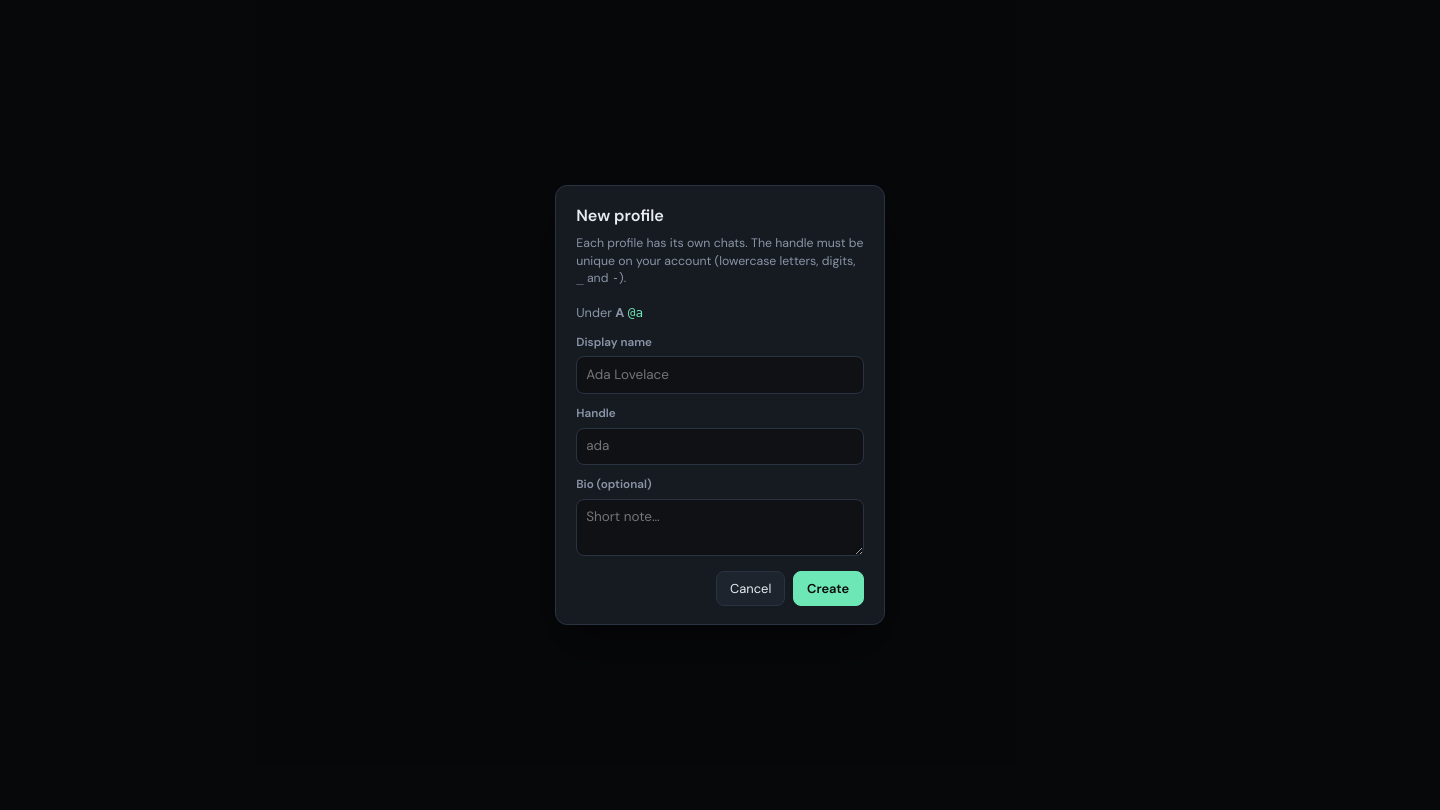
Scenario: QuickProfileDialog › shows API error when response not ok
Type "X" into the field labelled "Display name" at (720, 375), box x1=576 y1=356 x2=864 y2=394
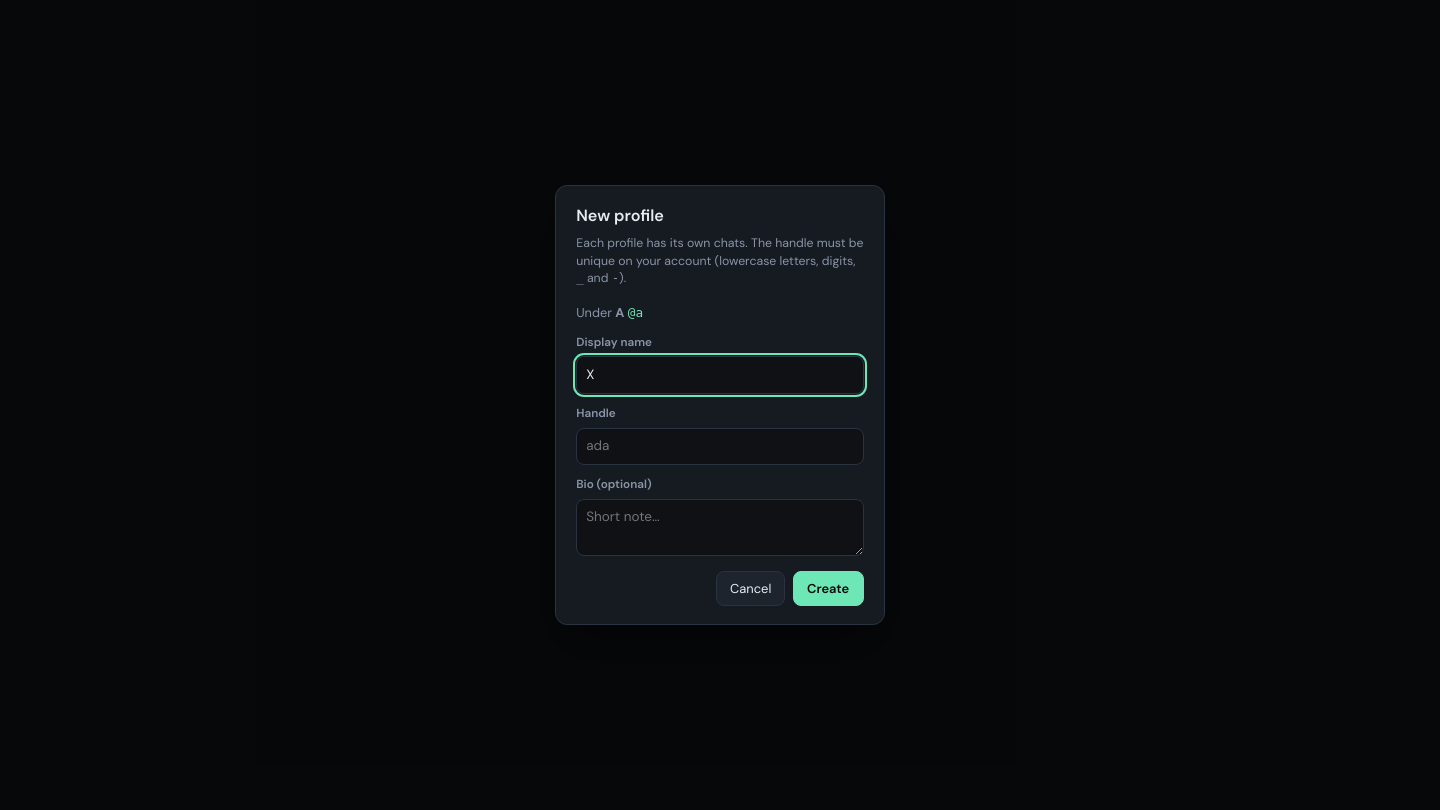
Type "x" into the field labelled "Handle" at (720, 446), box x1=576 y1=428 x2=864 y2=465
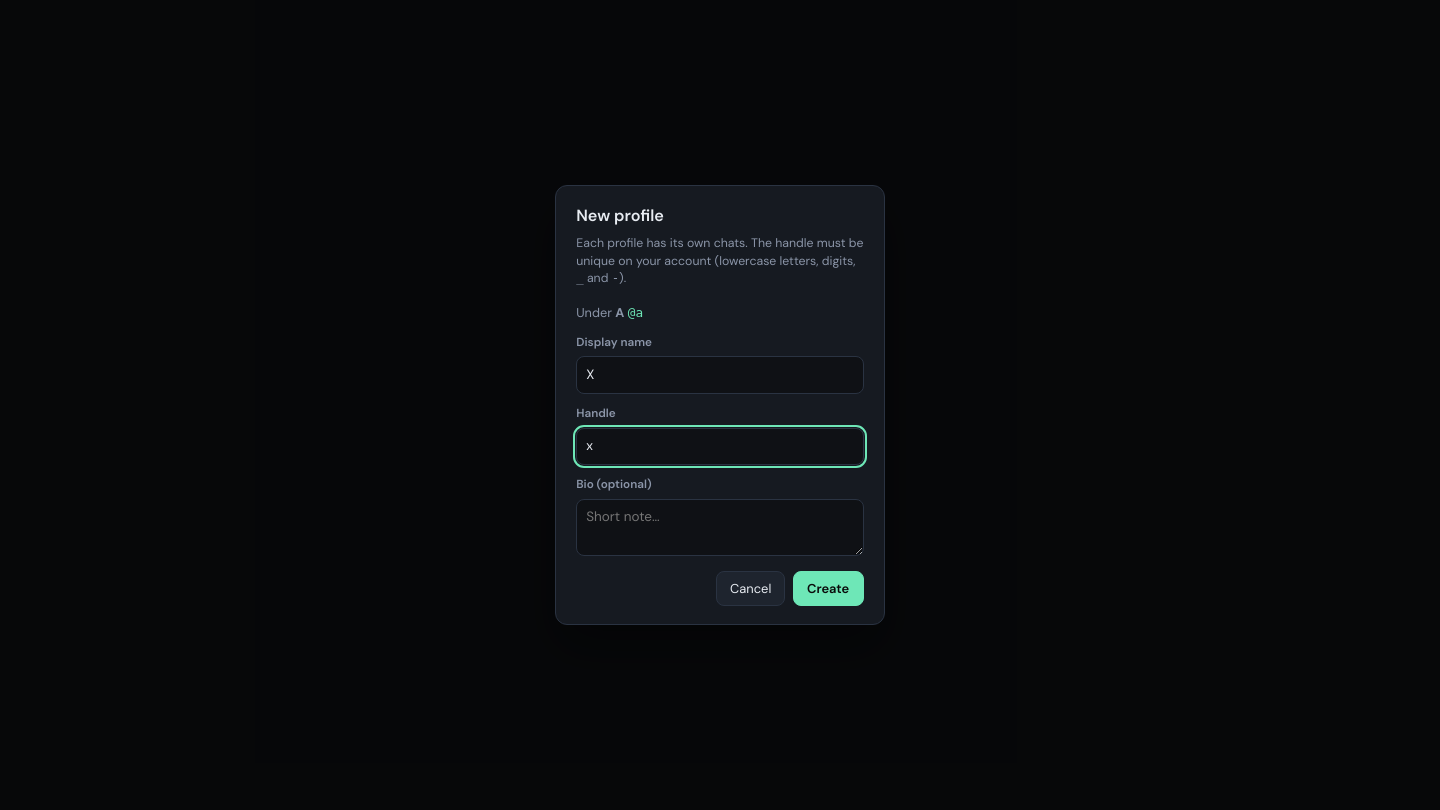
Click the button "Create" at (828, 589), box x1=792 y1=572 x2=864 y2=606
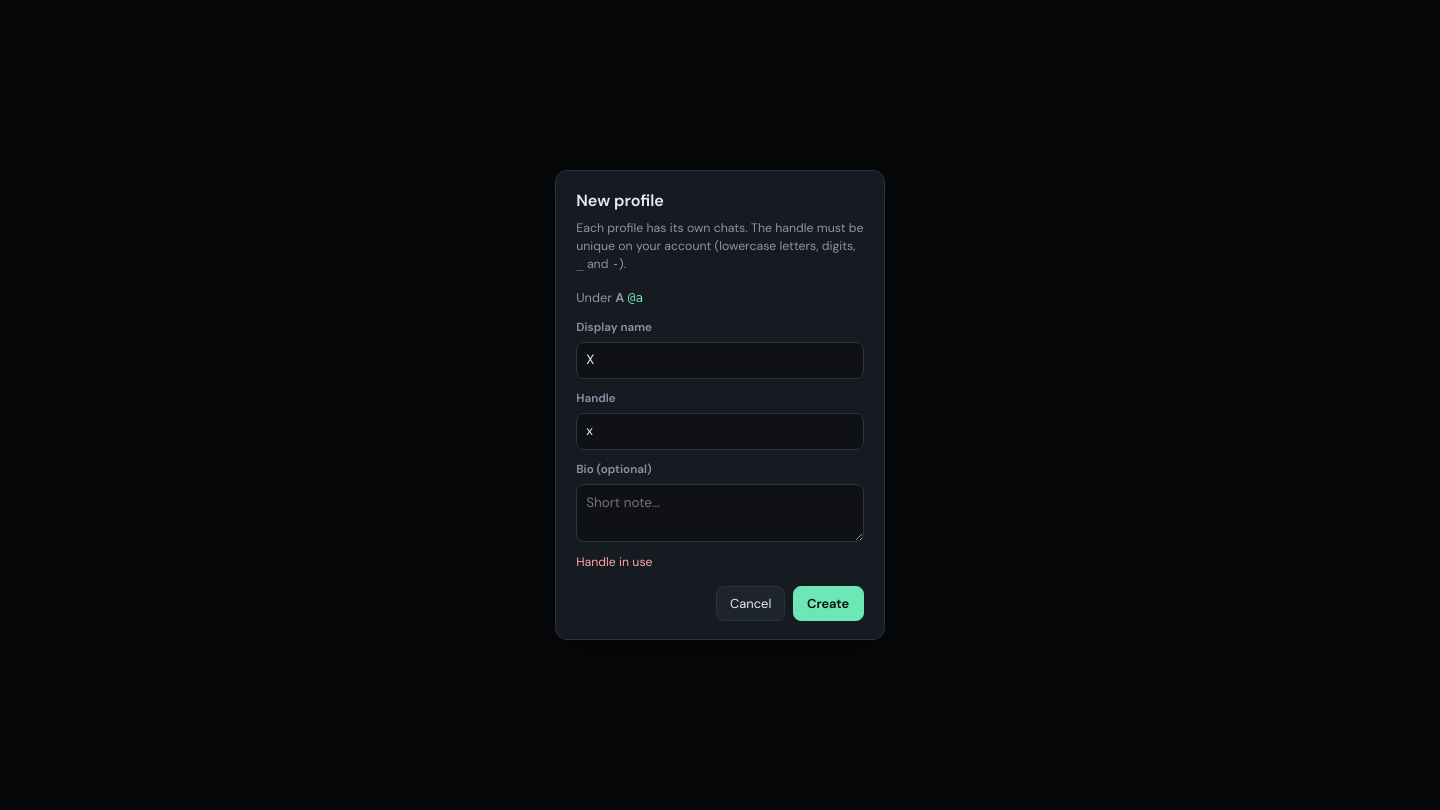
Expected: the message reads "Handle in use", x1=576 y1=554 x2=653 y2=570
